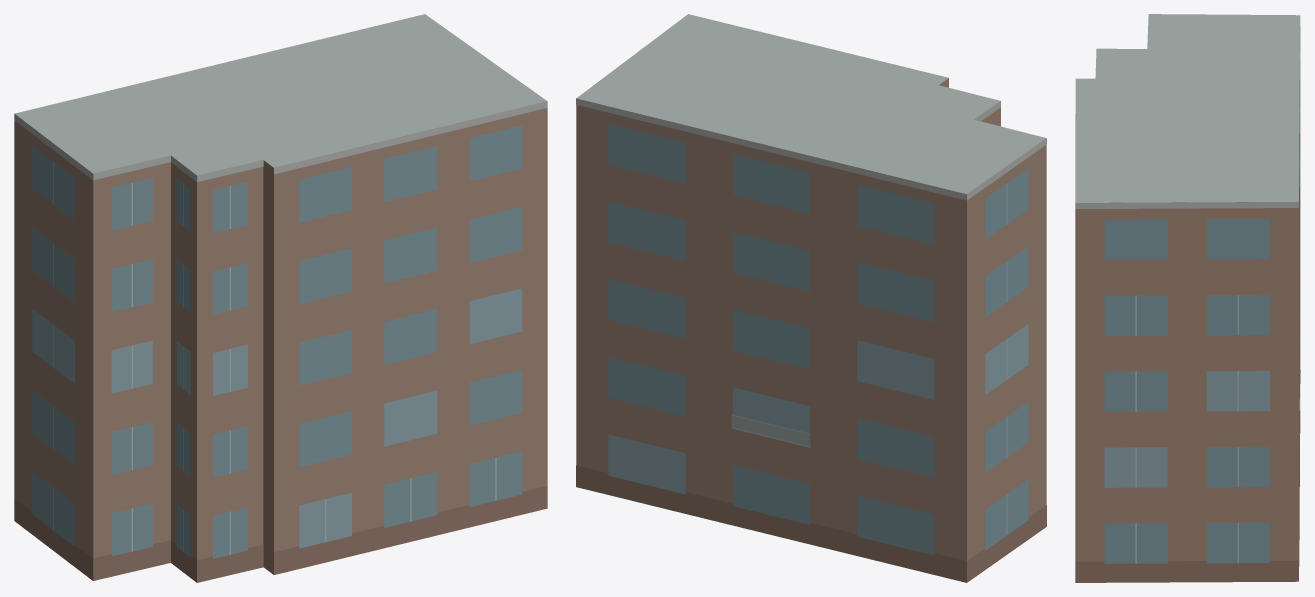
Rendered from survey-upis-32814266.glb.
3 renders of one model, left to right at view 1: azimuth 30°, elevation 25°; view 2: azimuth 150°, elevation 25°; view 3: azimuth 270°, elevation 25°, orthographic. The views are drawn at different scales.
Parts seen in each view (by area): view 1: survey-upis-32814266.tmp; view 2: survey-upis-32814266.tmp; view 3: survey-upis-32814266.tmp.
Part boxes in pixels (box(x1,y1,x2,y2)): survey-upis-32814266.tmp: box(14, 14, 547, 582); survey-upis-32814266.tmp: box(576, 14, 1046, 582); survey-upis-32814266.tmp: box(1075, 14, 1300, 582).
Bounding box in the file's own units: 16.01 × 15 × 8.08.
